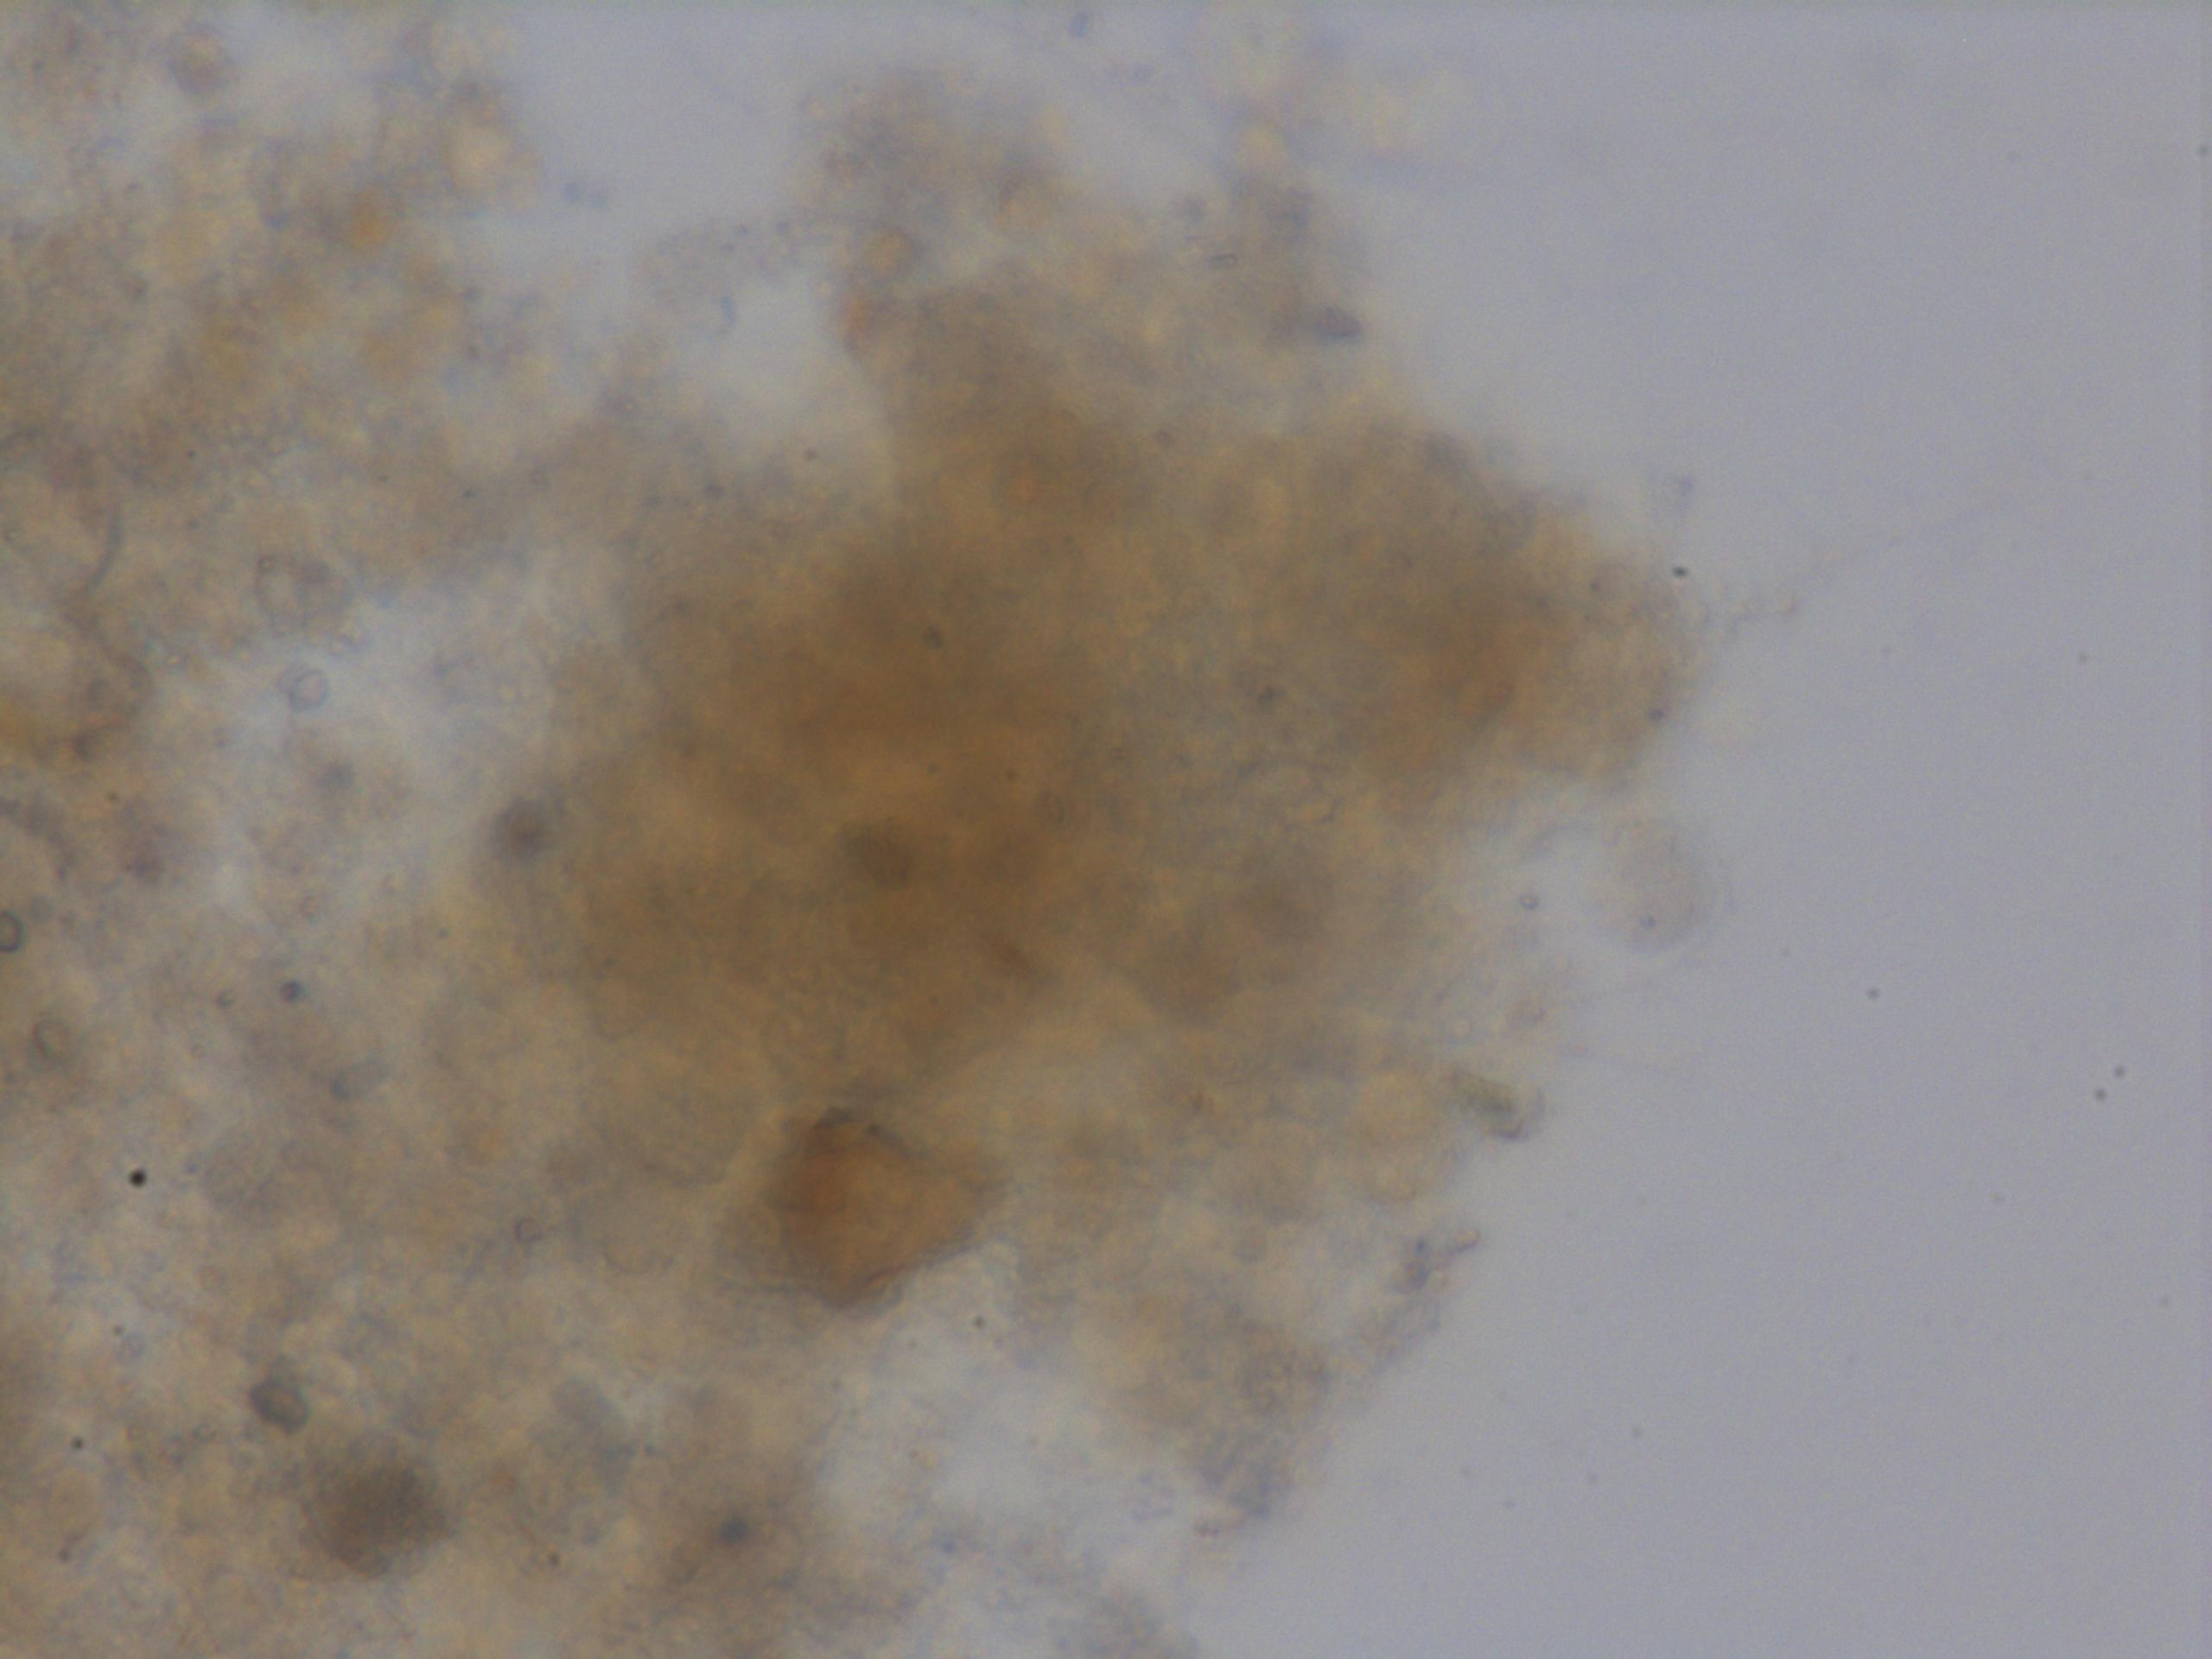open_floc: (0, 7, 1696, 1659)
